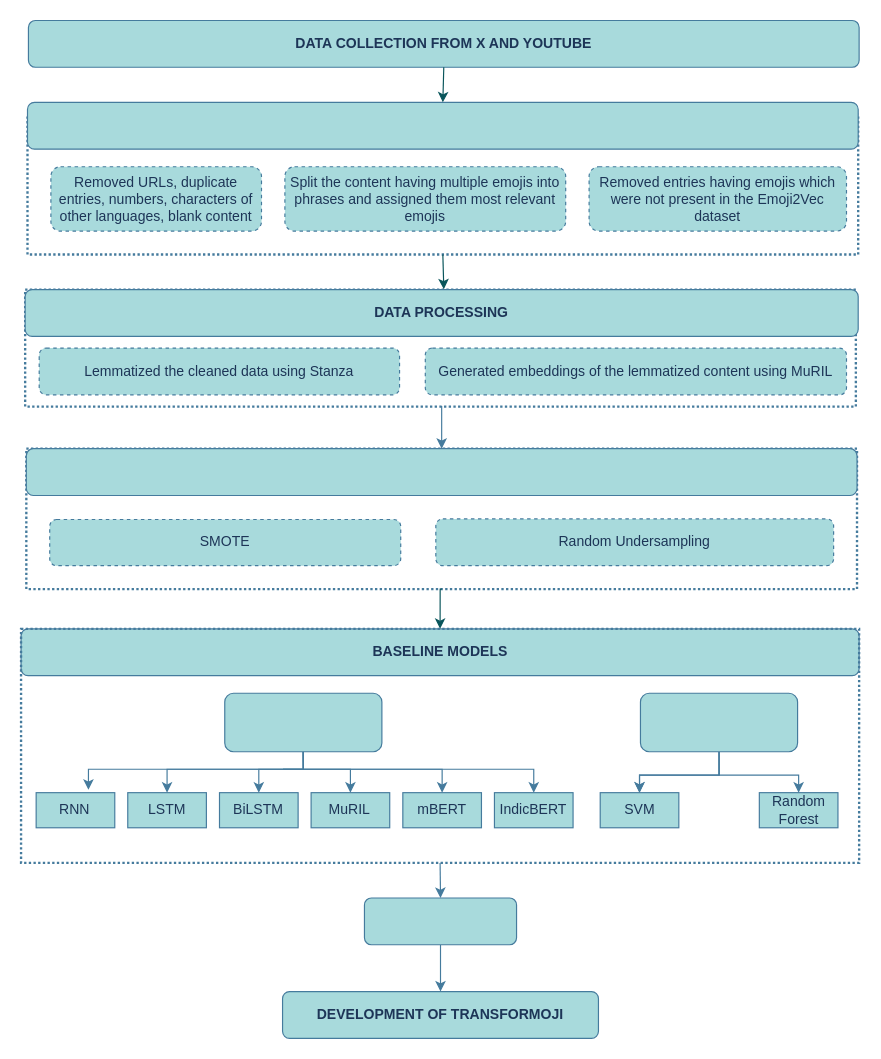
Some shapes in this 881 by 1059 pixel diagram are drawn without their labels. The box of each missing label's shape, as (x1, y1, x2, y2) in pixels:
DATA BALANCING: (25, 448, 857, 495)
DATA CLEANING: (26, 101, 858, 149)
Deep Learning: (224, 692, 382, 752)
EVALUATION: (363, 897, 517, 945)
Machine Learning: (639, 692, 798, 752)
